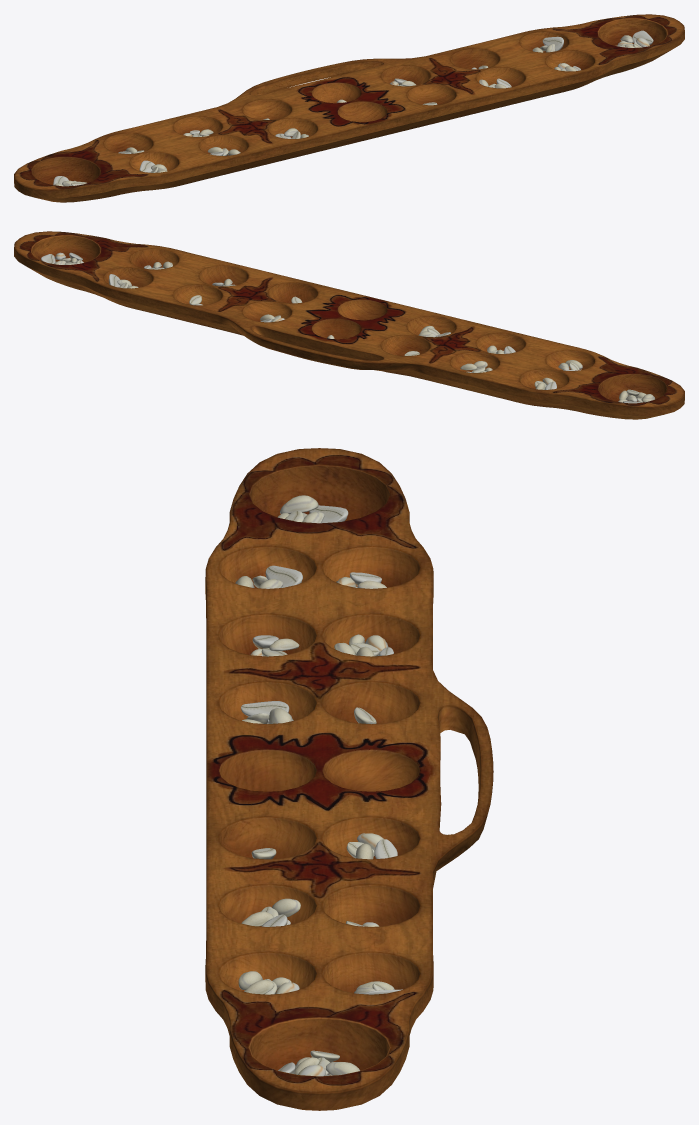
The model's file is ph_sungka_board_02.glb.
3 views of the same model, one above another, from view 1: azimuth 30°, elevation 25°; view 2: azimuth 150°, elevation 25°; view 3: azimuth 270°, elevation 25° (orthographic). The views are drawn at different scales.
Parts seen in each view (by area): view 1: ph_sungka_board_02; view 2: ph_sungka_board_02; view 3: ph_sungka_board_02.
Part boxes in pixels (x1=…): ph_sungka_board_02: x1=14, y1=14, x2=684, y2=202; ph_sungka_board_02: x1=14, y1=231, x2=684, y2=419; ph_sungka_board_02: x1=205, y1=448, x2=493, y2=1110.
Size of the model in its own units: 0.9317 by 0.0258 by 0.1757.
Materials: 1 (1 with a texture image).
